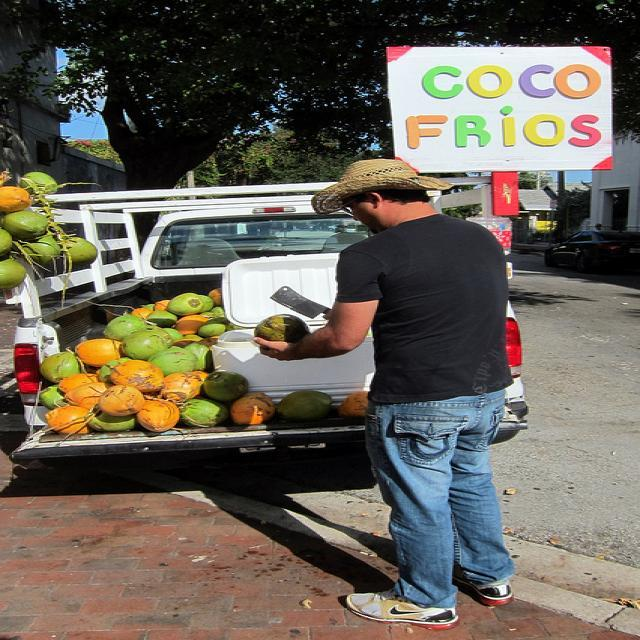non-dog: (254, 159, 516, 628)
